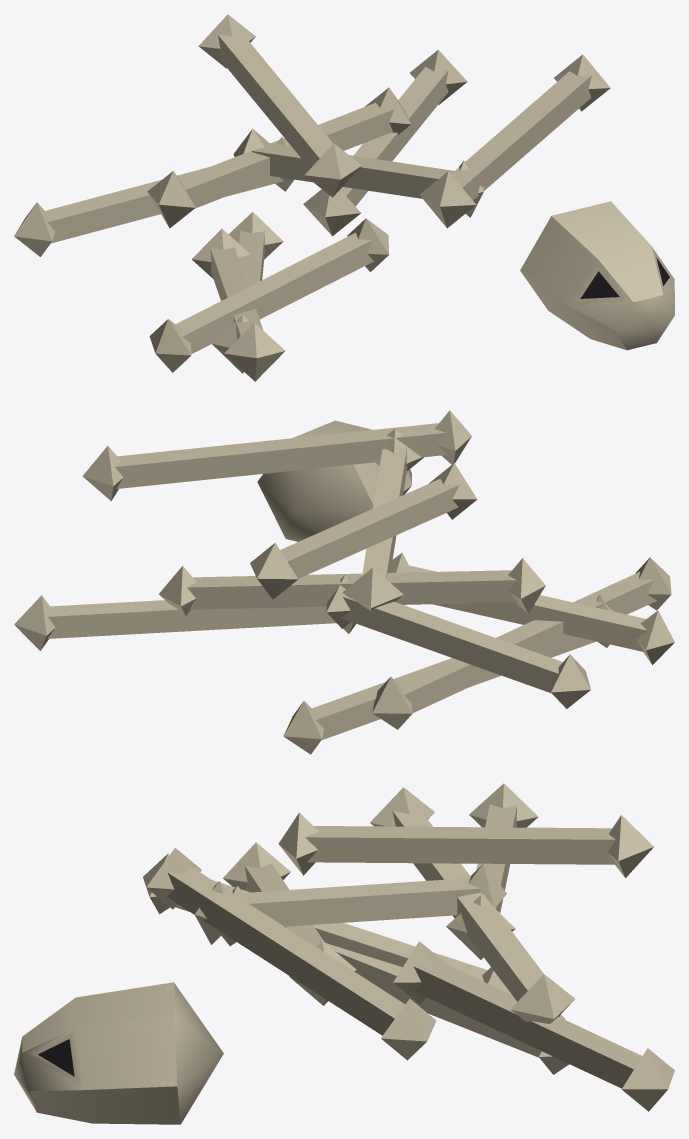
The model's file is BonePile.fbx.
3 views of the same model, one above another, from view 1: azimuth 30°, elevation 25°; view 2: azimuth 150°, elevation 25°; view 3: azimuth 270°, elevation 25° (orthographic). The views are drawn at different scales.
Visible parts, largest first — view 1: BonePile; view 2: BonePile; view 3: BonePile.
Part boxes in pixels (box(x1,y1,x2,y2)): BonePile: box(14, 14, 674, 381); BonePile: box(14, 410, 674, 754); BonePile: box(14, 783, 674, 1124).
Size of the model in its own units: 0.9118 by 0.3734 by 0.8499.
